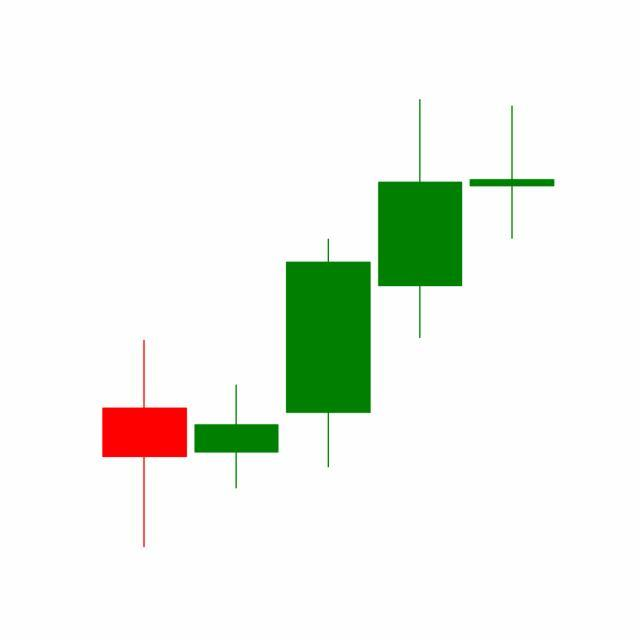Advance Block: (280, 99, 555, 472)
